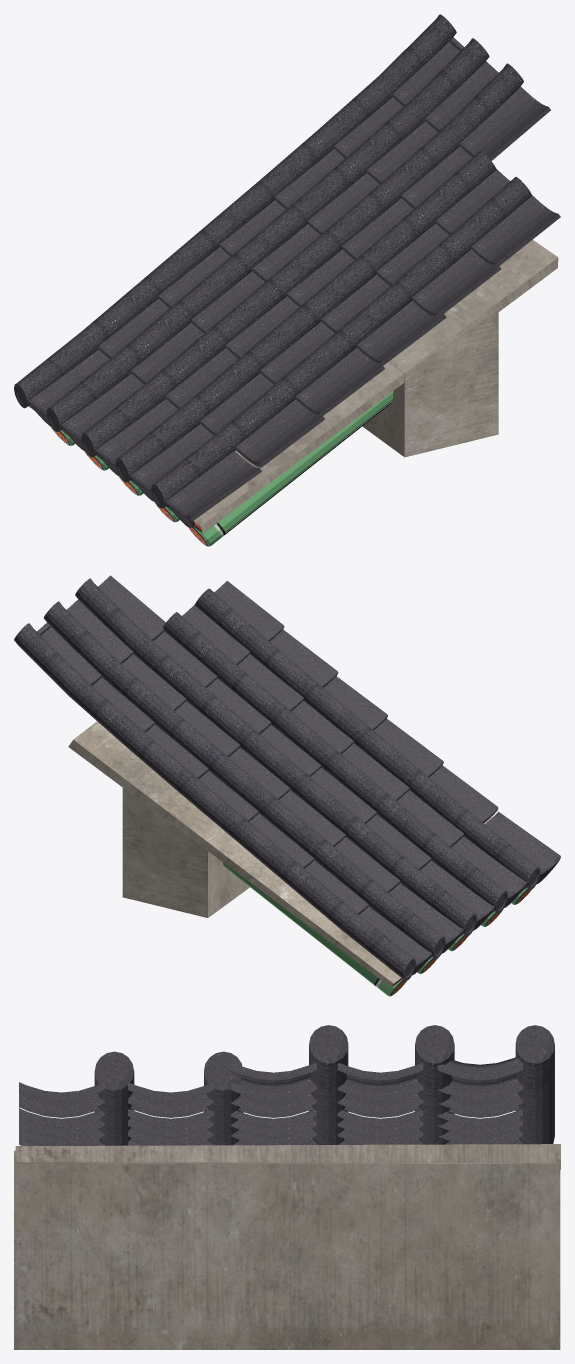
The model's file is SM_Roof_28.fbx.
3 views of the same model, one above another, from view 1: azimuth 30°, elevation 25°; view 2: azimuth 150°, elevation 25°; view 3: azimuth 270°, elevation 25° (orthographic). The views are drawn at different scales.
Visible parts, largest first — view 1: SM_Roof_28; view 2: SM_Roof_28; view 3: SM_Roof_28.
Boxes of the visible parts, x1,y1,x2,y2 form: SM_Roof_28: (14, 14, 560, 546); SM_Roof_28: (14, 575, 560, 996); SM_Roof_28: (14, 1025, 560, 1349).
Bounding box in the file's own units: 298 × 211 × 212.
Materials: 4 (4 with a texture image).
